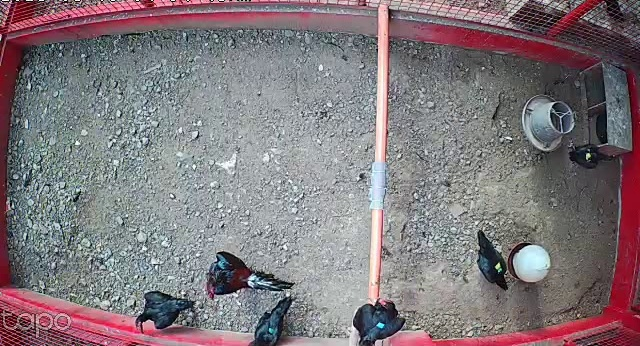Chicken: (350, 292, 408, 346), (134, 287, 198, 329), (472, 226, 511, 291), (246, 300, 298, 346), (565, 138, 620, 170)
Rooster: (200, 245, 293, 299)
Saddle_Color_Blue: (376, 322, 385, 330)
Saddle_Color_Yellow: (586, 149, 592, 162)
Saddle_Color_YellowGreen: (494, 260, 502, 272)
